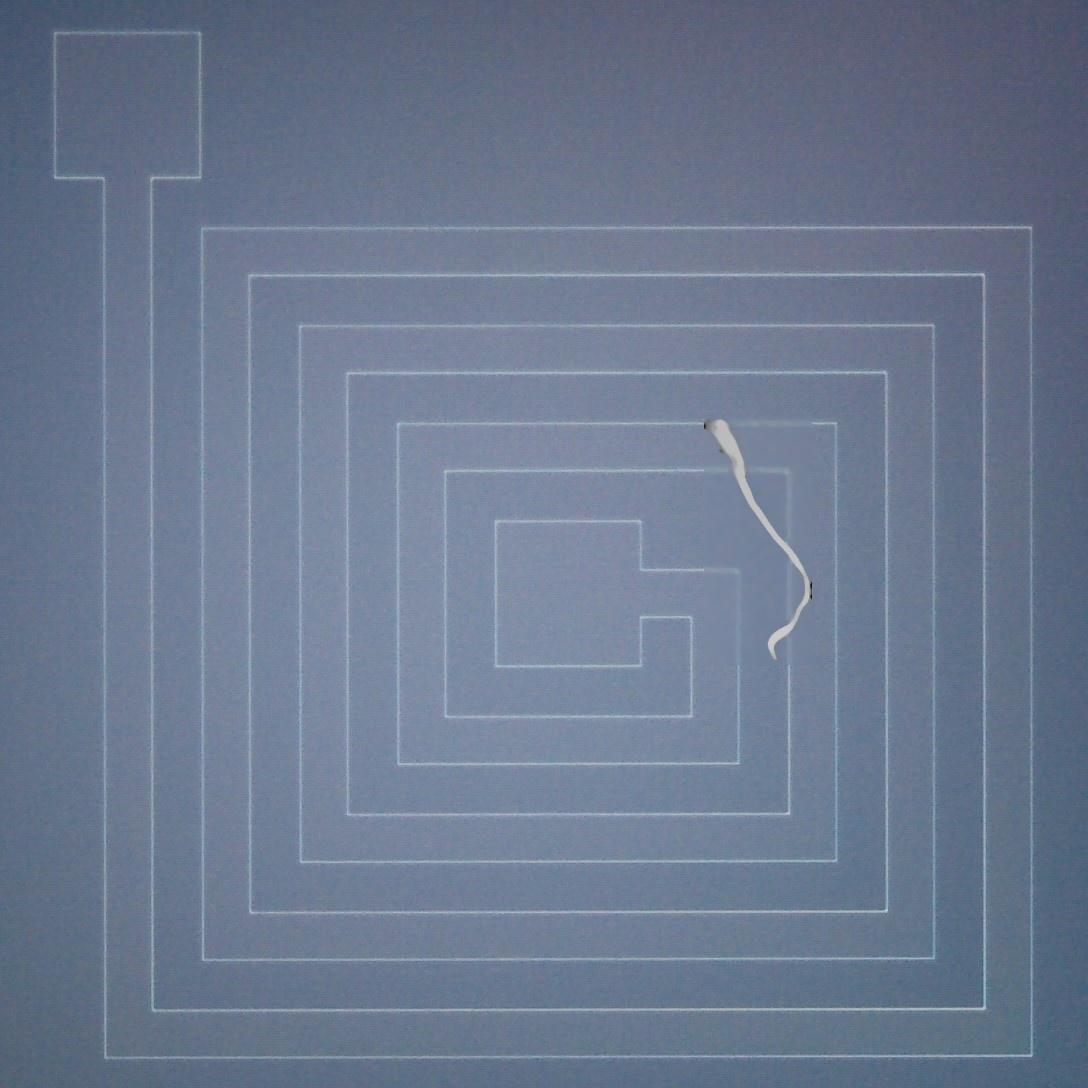foreign: (699, 412, 824, 667)
